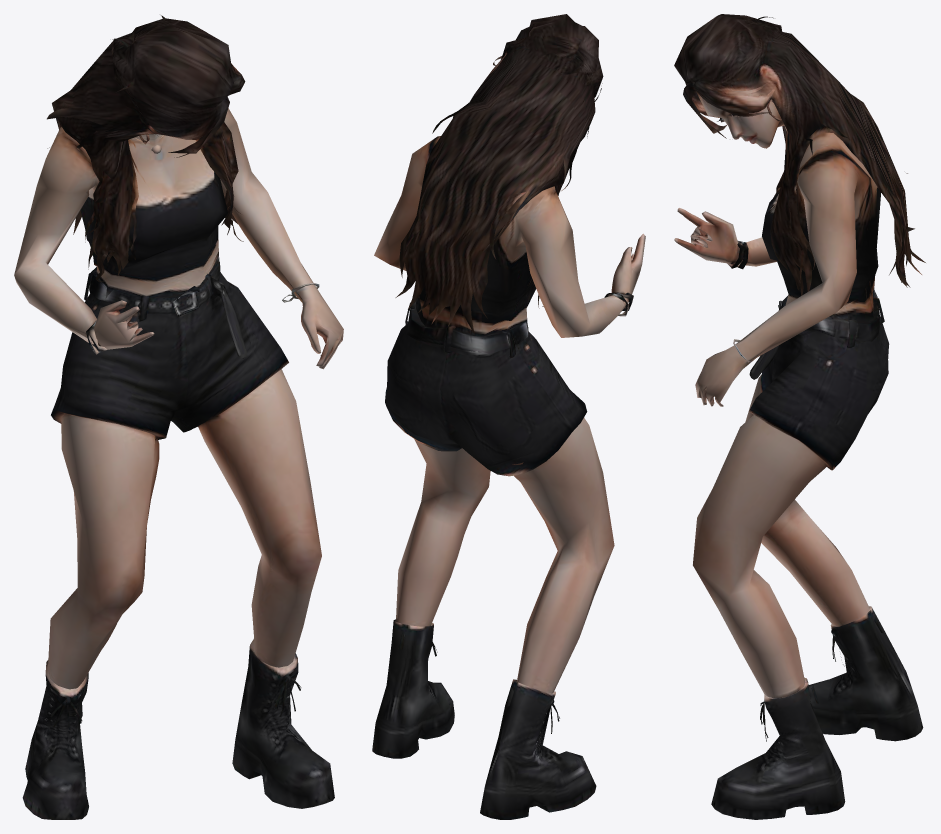
The model's file is Female_Fan_05_LOD2_Static_cheer_512.glb.
The picture shows the model from 3 angles, left to right: view 1: azimuth 30°, elevation 25°; view 2: azimuth 150°, elevation 25°; view 3: azimuth 270°, elevation 25°; orthographic projection. The views are drawn at different scales.
Visible parts, largest first — view 1: female_fan_05_static_cheer_uvfixed; view 2: female_fan_05_static_cheer_uvfixed; view 3: female_fan_05_static_cheer_uvfixed.
Part boxes in pixels (left/top/right/bottom): female_fan_05_static_cheer_uvfixed: left=14, top=15, right=343, bottom=819; female_fan_05_static_cheer_uvfixed: left=372, top=14, right=645, bottom=819; female_fan_05_static_cheer_uvfixed: left=674, top=14, right=925, bottom=819.
Size of the model in its own units: 0.3013 by 0.8891 by 0.278.
1 material, 1 textured.
